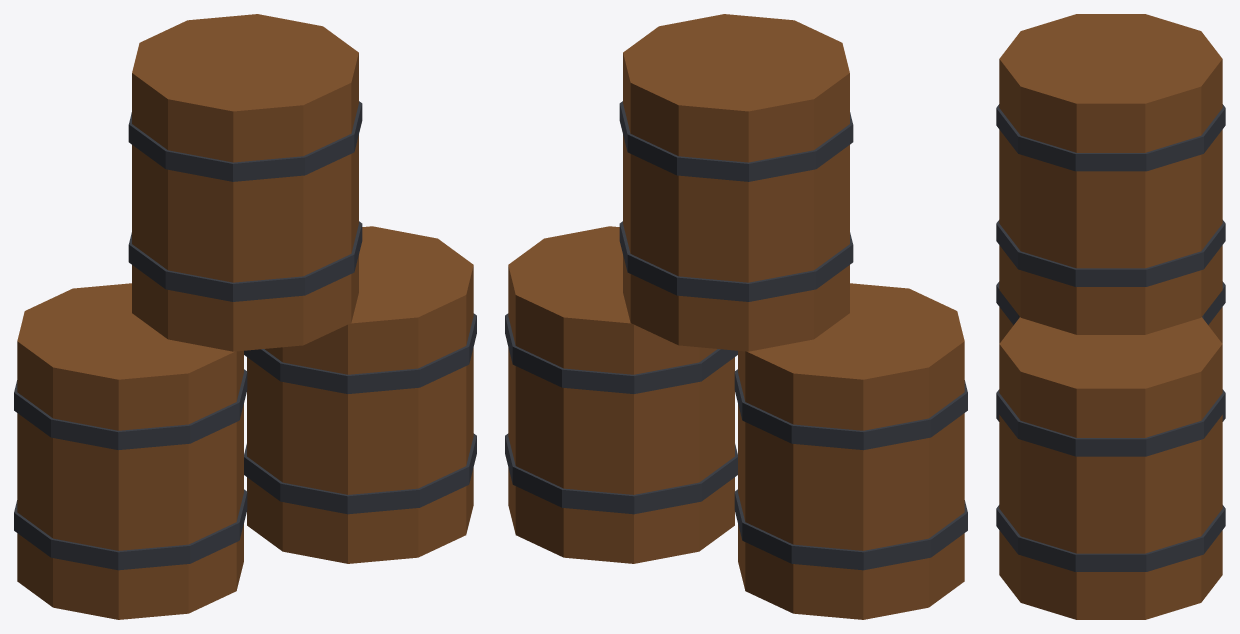
File: town_barrel_stack.glb
The picture shows the model from 3 angles, left to right: view 1: azimuth 30°, elevation 25°; view 2: azimuth 150°, elevation 25°; view 3: azimuth 270°, elevation 25°; orthographic projection. The views are drawn at different scales.
Parts seen in each view (by area): view 1: barrel_stack; view 2: barrel_stack; view 3: barrel_stack.
Part boxes in pixels (x1=…): barrel_stack: x1=14, y1=14, x2=476, y2=619; barrel_stack: x1=505, y1=14, x2=967, y2=619; barrel_stack: x1=996, y1=14, x2=1225, y2=619.
Bounding box in the file's own units: 1.48 × 1.6 × 0.72.
